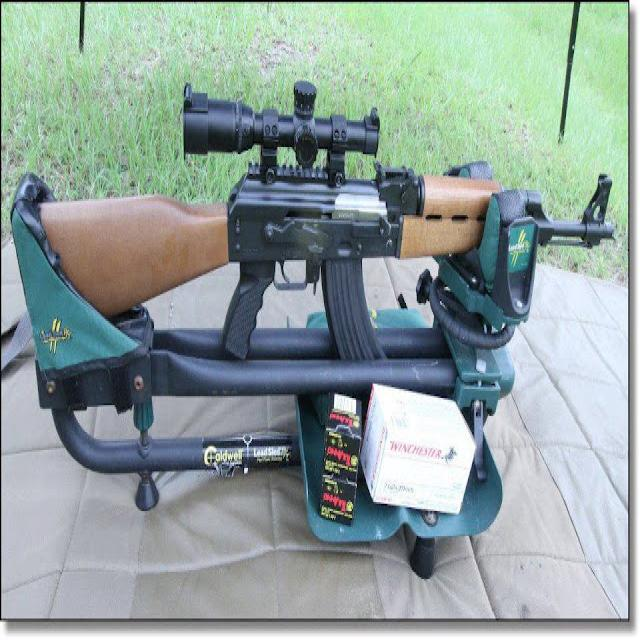gun: (37, 91, 618, 376)
